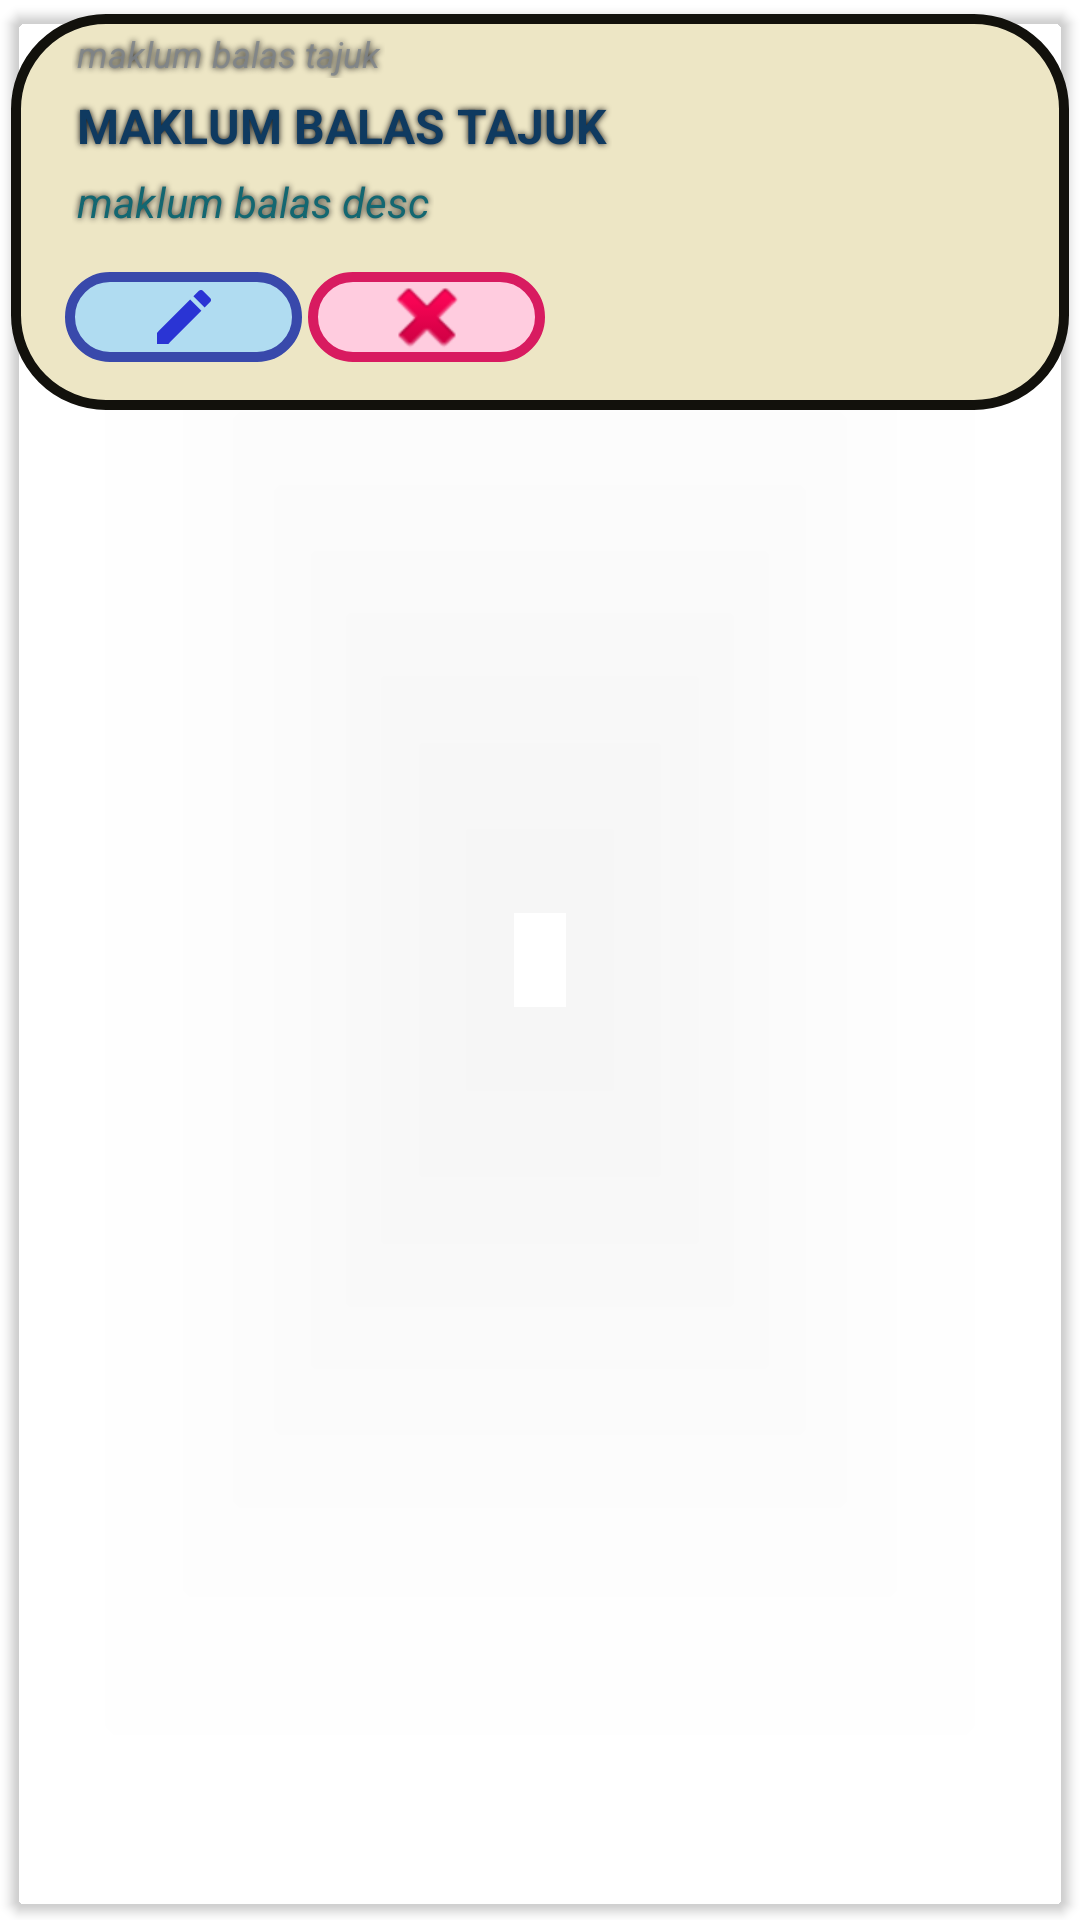

Point at icon controls on the screen. Image size 1080w x 1920h, points as (x=x, y=y).
delete: (x=426, y=317)
edit: (x=183, y=317)
